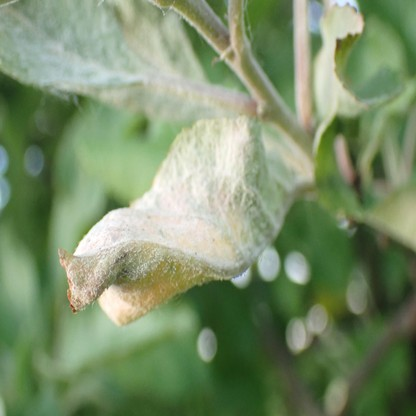powdery_mildew: (57, 116, 315, 319), (1, 0, 207, 105)
